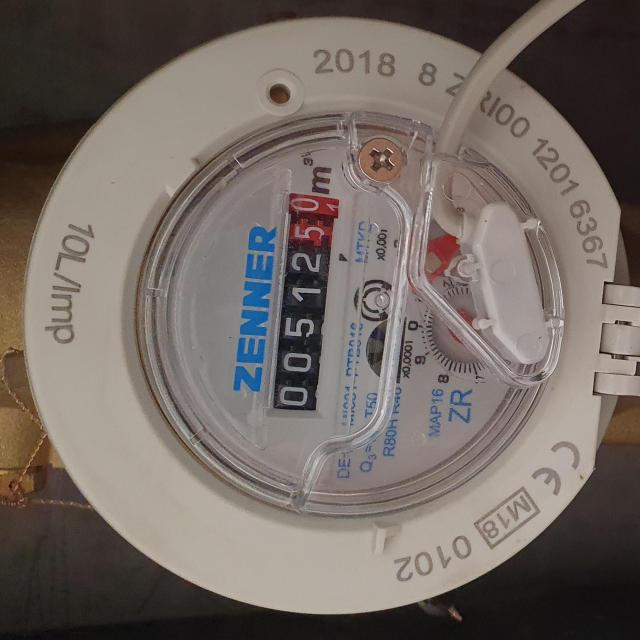gaz_meter: (141, 122, 560, 514)
indication: (269, 191, 339, 412)
